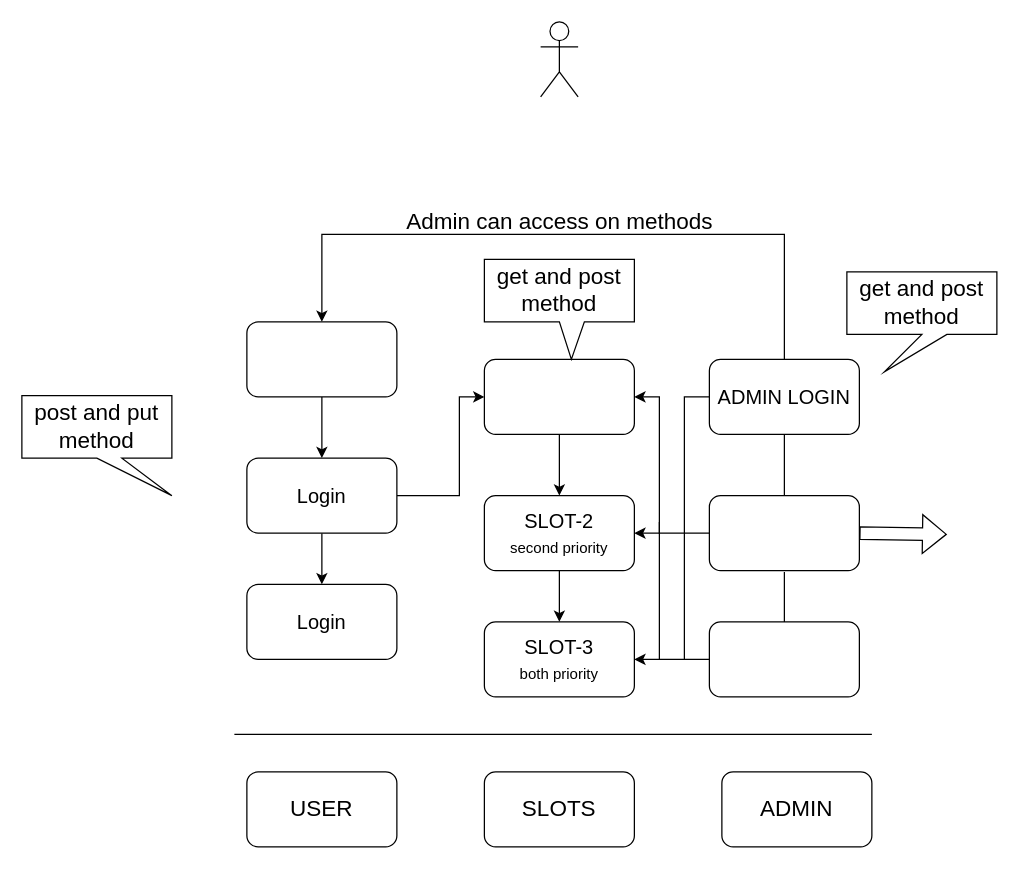
The diagram is 1019 pixels wide and 869 high, and some of its shapes have lost their labels. The shapes that lost their labels are listed below. From the top down, each one's centre as x and y in pixels, then its label:
At (558,59): "COVID-19".
At (321,359): "create users".
At (558,396): "SLOT-1 first priority".
At (783,532): "ADMIN USER".
At (783,659): "ADMIN SLOTS".
